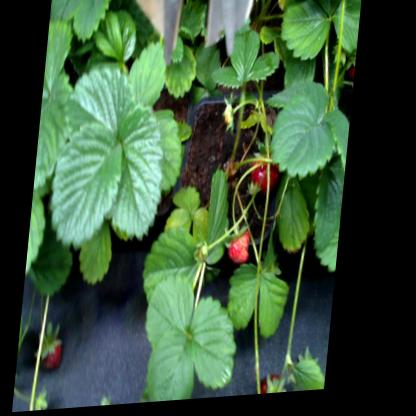ripe: (44, 327, 77, 373), (230, 229, 260, 270), (253, 156, 283, 193)
